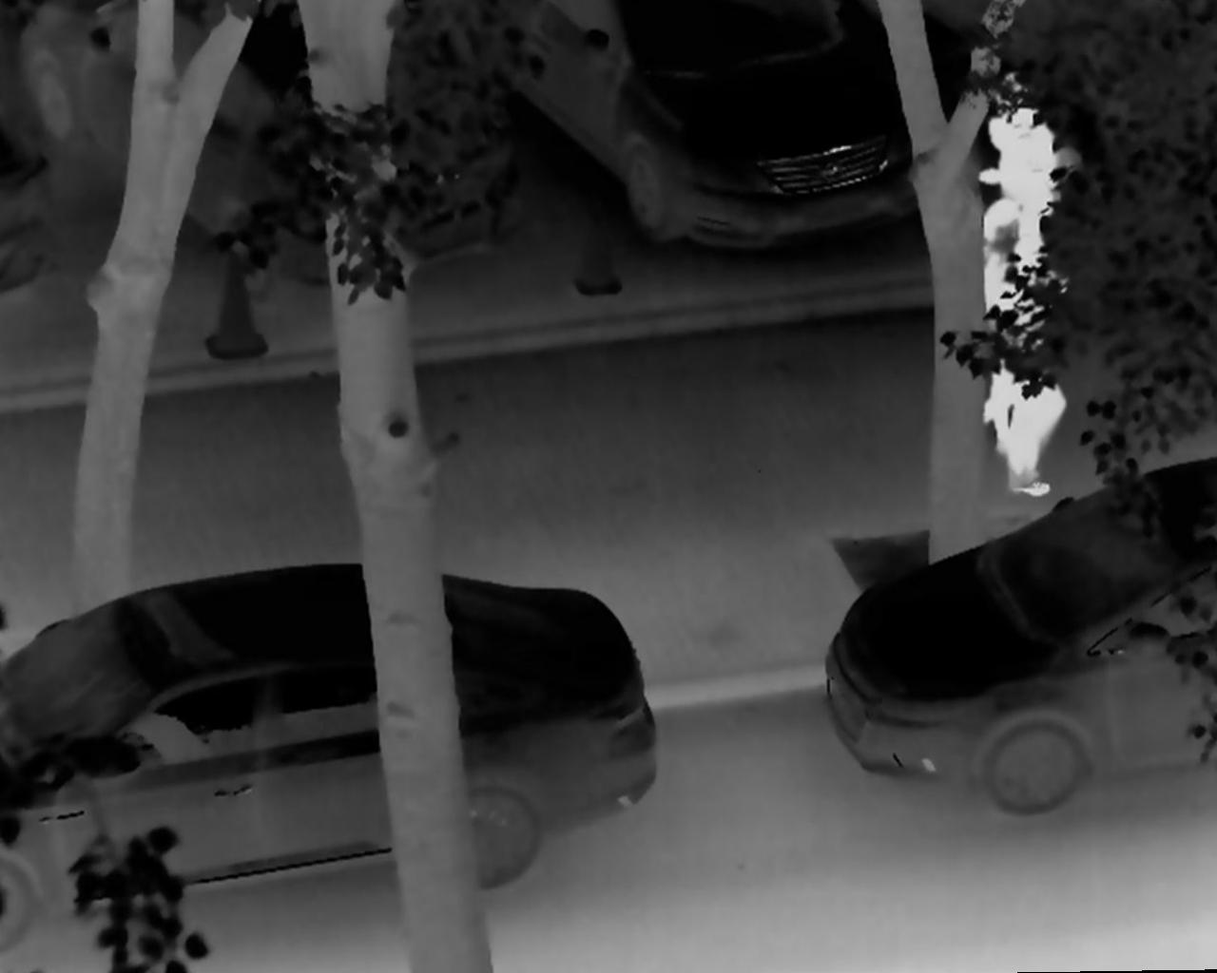person: (965, 194, 1034, 462), (1002, 238, 1072, 502), (975, 66, 1062, 266)
